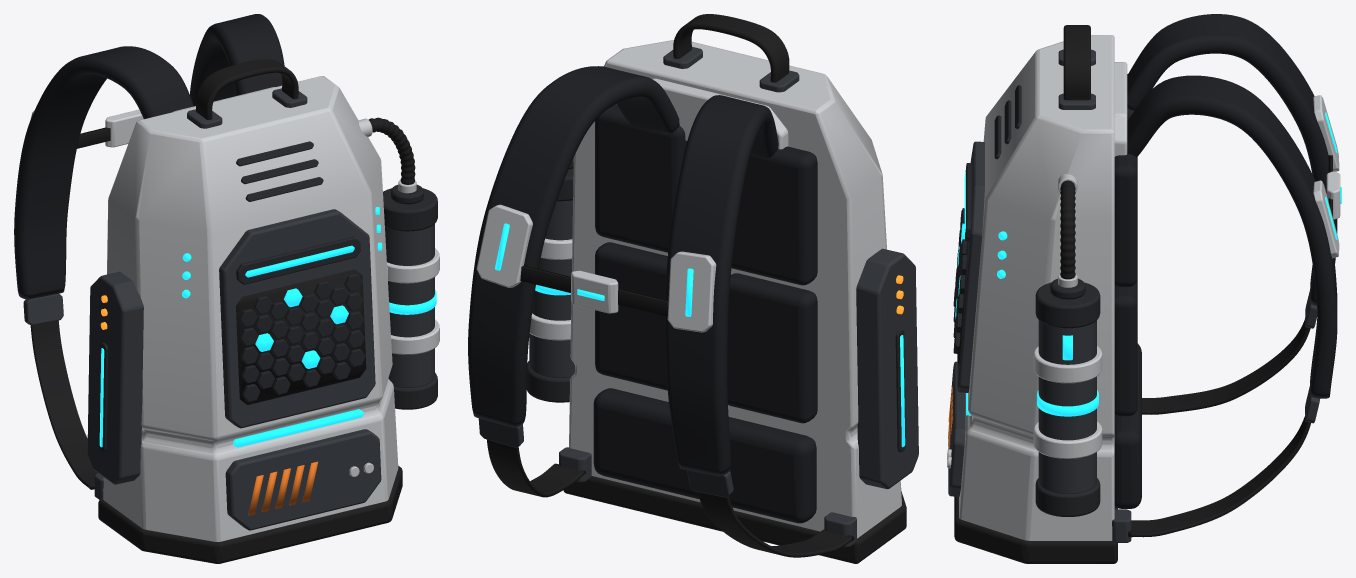
The model's file is Plecak_SciFi_Maly.glb.
The picture shows the model from 3 angles, left to right: view 1: azimuth 30°, elevation 25°; view 2: azimuth 150°, elevation 25°; view 3: azimuth 270°, elevation 25°; orthographic projection. The views are drawn at different scales.
Visible parts, largest first — view 1: Maly_Korpus, Maly_Plyty_Przod, Maly_Szelka, Maly_Kieszen, Maly_Kratka_Hex, Maly_Stopka, Maly_Ogniwo, Maly_Kratka_Tlo, Maly_Tasma, Maly_Ogniwo_Dekle, Maly_Uchwyt, Maly_Szczelina (+11 smaller); view 2: Maly_Szelka, Maly_Korpus, Maly_Plecy_Poduszki, Maly_Plecy_Ledzwie, Maly_Kieszen, Maly_Stopka, Maly_Szelka_Plytki, Maly_Tasma, Maly_Ogniwo, Maly_Uchwyt, Maly_Plecy_Rama, Maly_Klamra (+8 smaller); view 3: Maly_Korpus, Maly_Szelka, Maly_Ogniwo, Maly_Tasma, Maly_Plecy_Poduszki, Maly_Plyty_Przod, Maly_Ogniwo_Dekle, Maly_Stopka, Maly_Plecy_Ledzwie, Maly_Ogniwo_Obejmy, Maly_Uchwyt, Maly_Szelka_Plytki (+9 smaller).
Part boxes in pixels (left/top/right/bottom): Maly_Korpus: left=103, top=76, right=398, bottom=541; Maly_Plyty_Przod: left=219, top=209, right=381, bottom=530; Maly_Szelka: left=14, top=14, right=284, bottom=299; Maly_Kieszen: left=87, top=271, right=143, bottom=484; Maly_Kratka_Hex: left=239, top=273, right=365, bottom=402; Maly_Stopka: left=98, top=466, right=402, bottom=563; Maly_Ogniwo: left=385, top=224, right=434, bottom=387; Maly_Kratka_Tlo: left=236, top=269, right=366, bottom=404; Maly_Tasma: left=30, top=320, right=97, bottom=489; Maly_Ogniwo_Dekle: left=383, top=184, right=437, bottom=409; Maly_Uchwyt: left=195, top=59, right=298, bottom=119; Maly_Szczelina: left=236, top=236, right=360, bottom=284; Maly_Szelka: left=468, top=66, right=778, bottom=476; Maly_Korpus: left=569, top=40, right=901, bottom=538; Maly_Plecy_Poduszki: left=595, top=104, right=817, bottom=423; Maly_Plecy_Ledzwie: left=593, top=388, right=816, bottom=523; Maly_Kieszen: left=856, top=248, right=918, bottom=489; Maly_Stopka: left=563, top=476, right=906, bottom=563; Maly_Szelka_Plytki: left=476, top=204, right=716, bottom=332; Maly_Tasma: left=486, top=439, right=853, bottom=557; Maly_Ogniwo: left=529, top=200, right=574, bottom=377; Maly_Uchwyt: left=673, top=14, right=789, bottom=82; Maly_Plecy_Rama: left=652, top=78, right=788, bottom=149; Maly_Klamra: left=478, top=418, right=733, bottom=497; Maly_Korpus: left=959, top=35, right=1114, bottom=540; Maly_Szelka: left=1127, top=14, right=1337, bottom=398; Maly_Ogniwo: left=1038, top=320, right=1096, bottom=493; Maly_Tasma: left=1128, top=319, right=1310, bottom=537; Maly_Plecy_Poduszki: left=1114, top=74, right=1137, bottom=416; Maly_Plyty_Przod: left=948, top=141, right=984, bottom=496; Maly_Ogniwo_Dekle: left=1035, top=278, right=1100, bottom=516; Maly_Stopka: left=954, top=496, right=1117, bottom=563; Maly_Plecy_Ledzwie: left=1114, top=343, right=1141, bottom=508; Maly_Ogniwo_Obejmy: left=1033, top=346, right=1102, bottom=458; Maly_Uchwyt: left=1063, top=25, right=1090, bottom=100; Maly_Szelka_Plytki: left=1313, top=95, right=1339, bottom=258.
Size of the model in its own units: 0.3917 by 0.4884 by 0.379.
